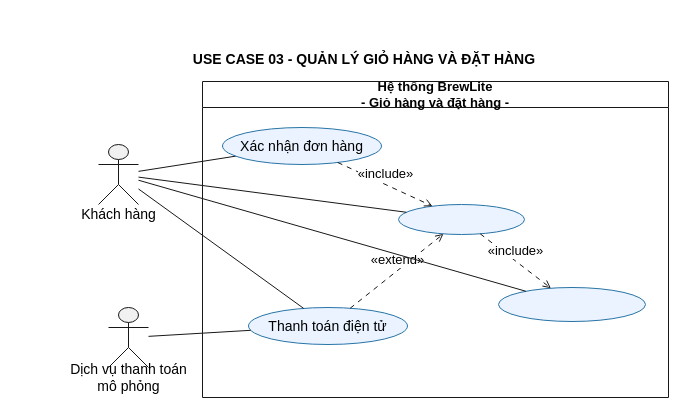
This 686x415 diagram has some shape labels left out. Each missing label, with the box of its shape:
Quản lý giỏ hàng: (498, 286, 646, 322)
Đặt đơn hàng: (398, 204, 524, 234)
